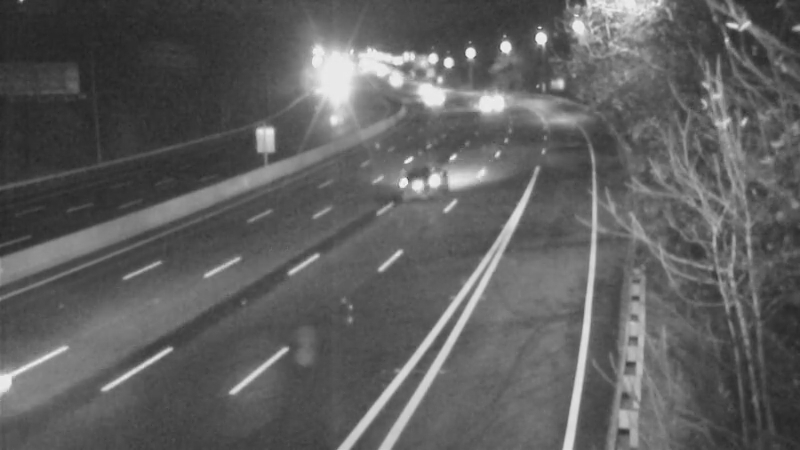vehicle: (377, 137, 457, 217), (396, 60, 446, 110), (404, 74, 454, 124), (461, 74, 511, 124)
